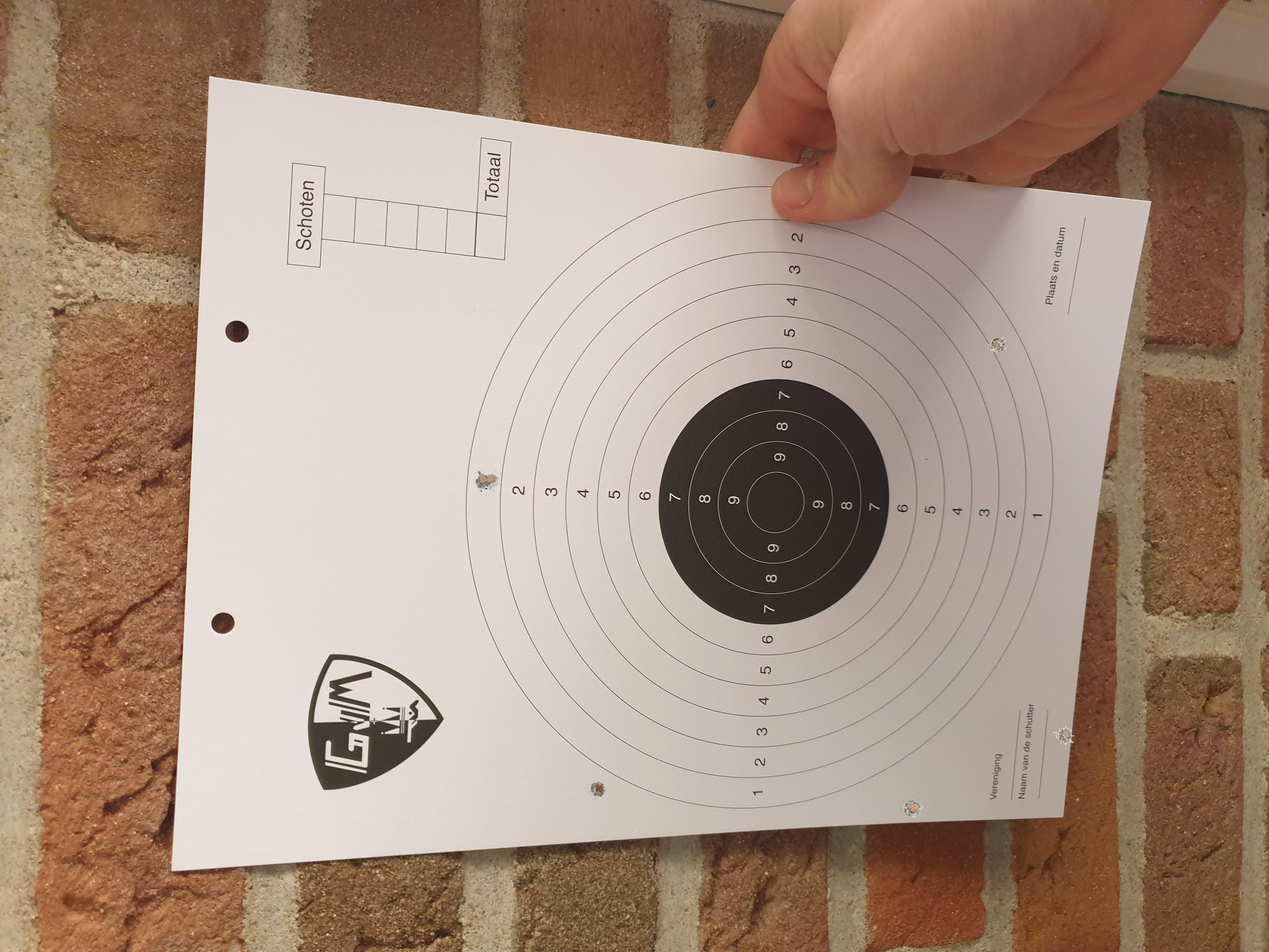hole: (903, 799, 922, 817), (988, 336, 1007, 354), (1053, 727, 1072, 743), (472, 470, 487, 489), (488, 474, 503, 493), (589, 781, 605, 797)
